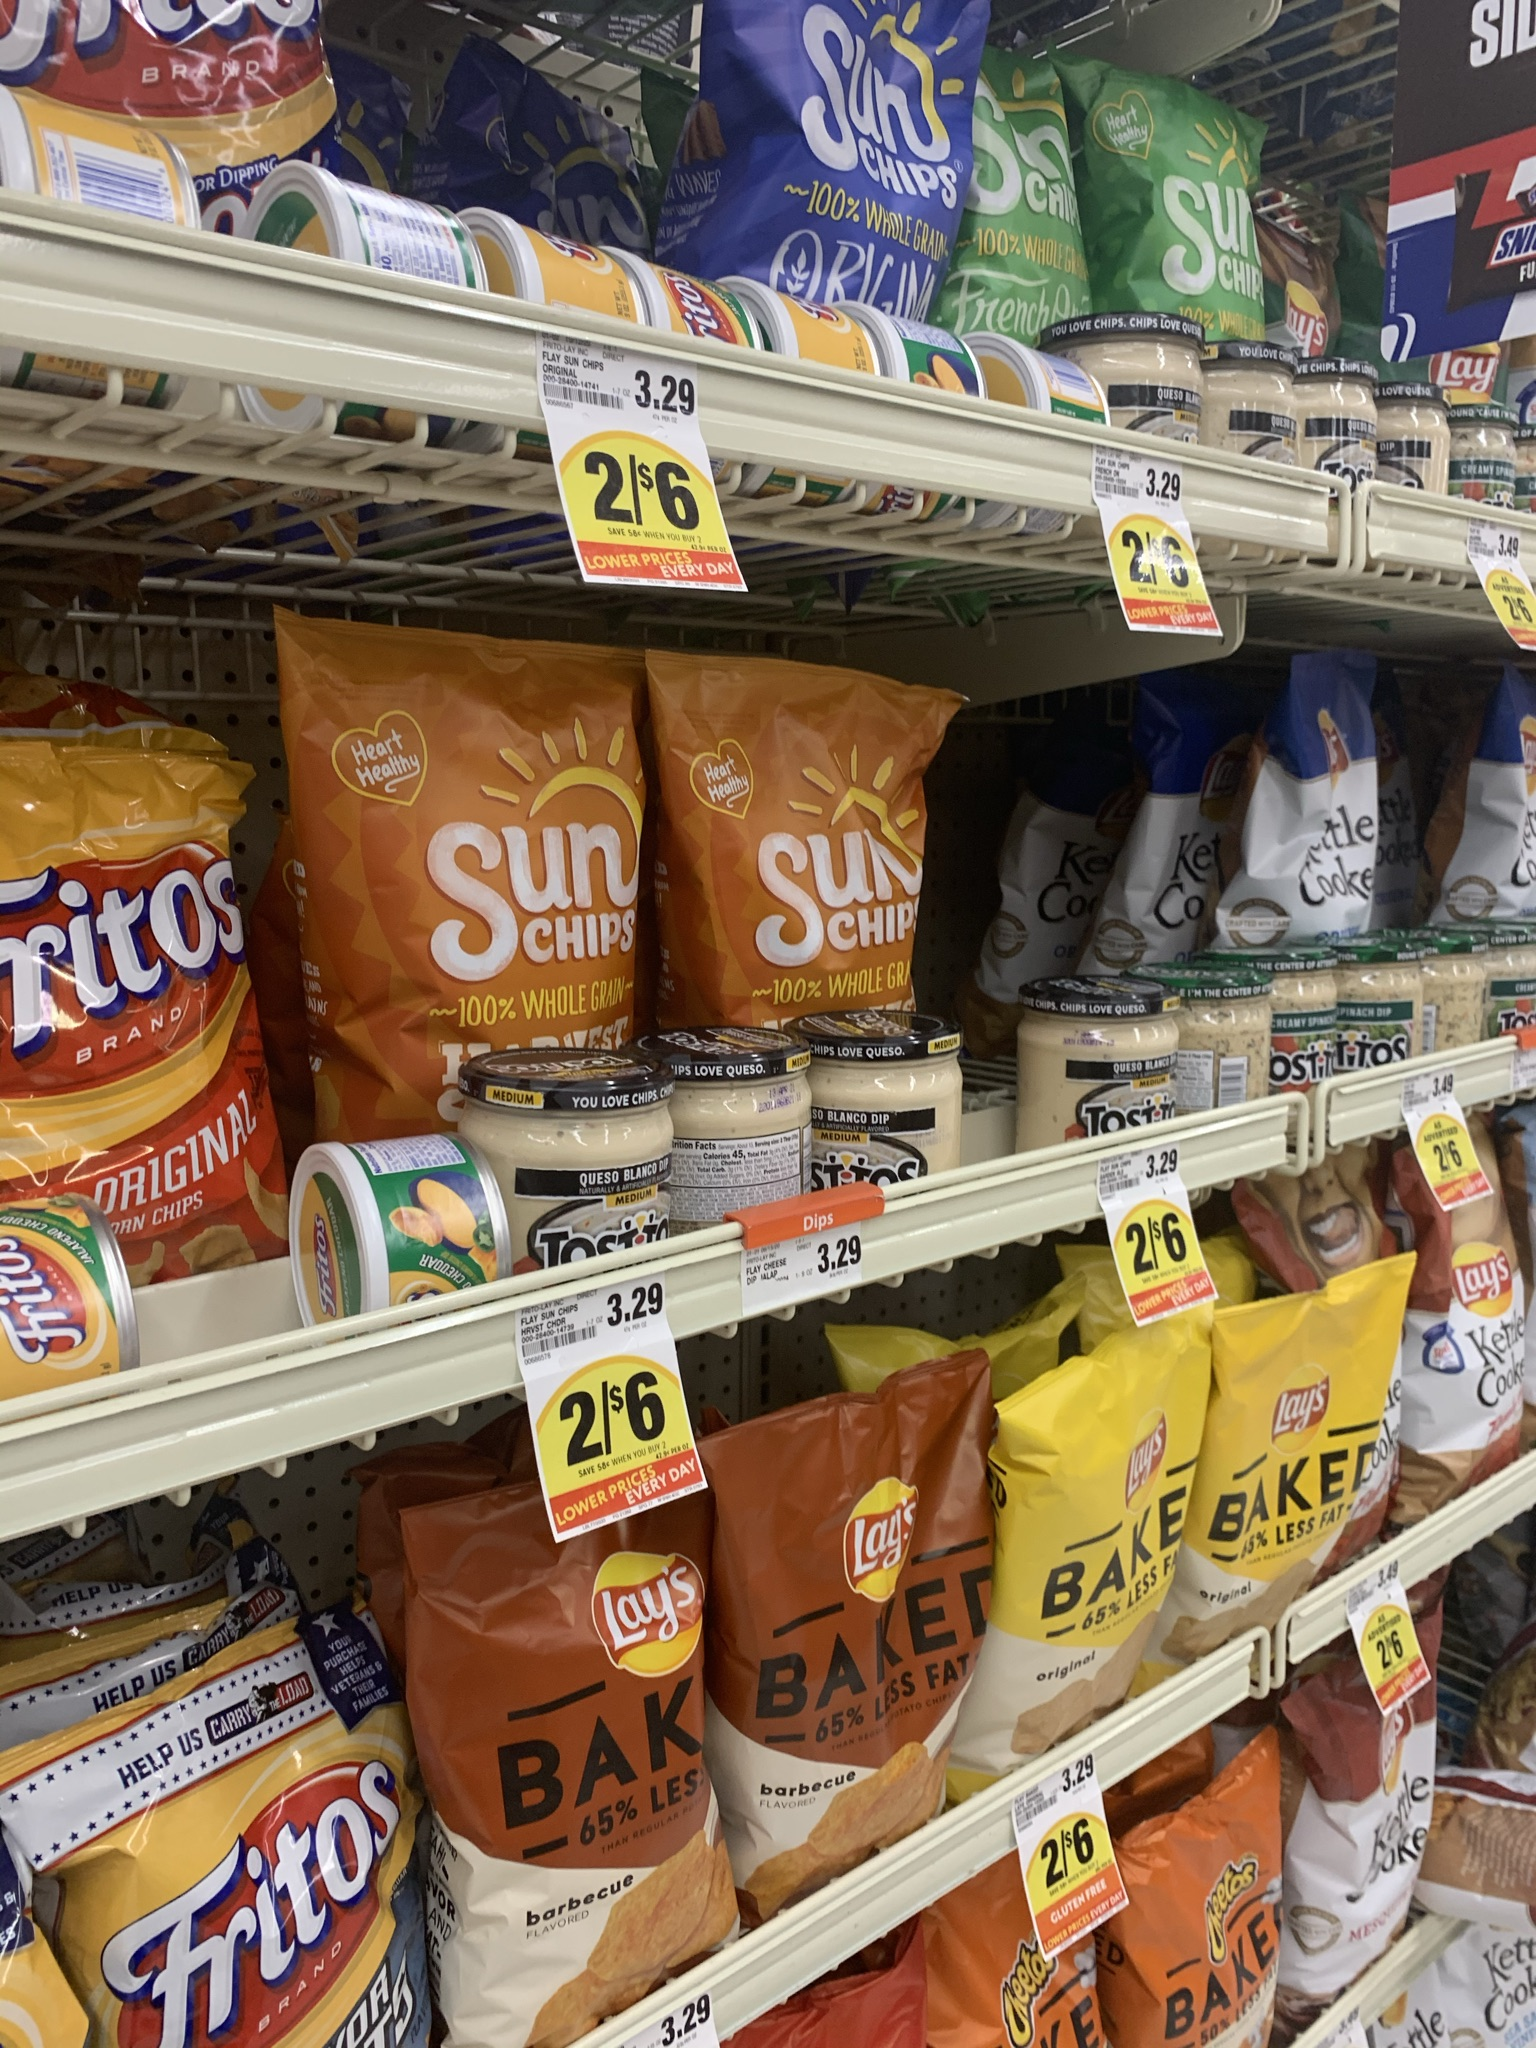Chips: (281, 622, 660, 1085), (2, 711, 287, 1238), (665, 656, 941, 1011)
